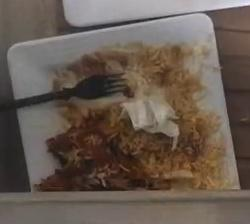rice_mix: (7, 13, 238, 189)
